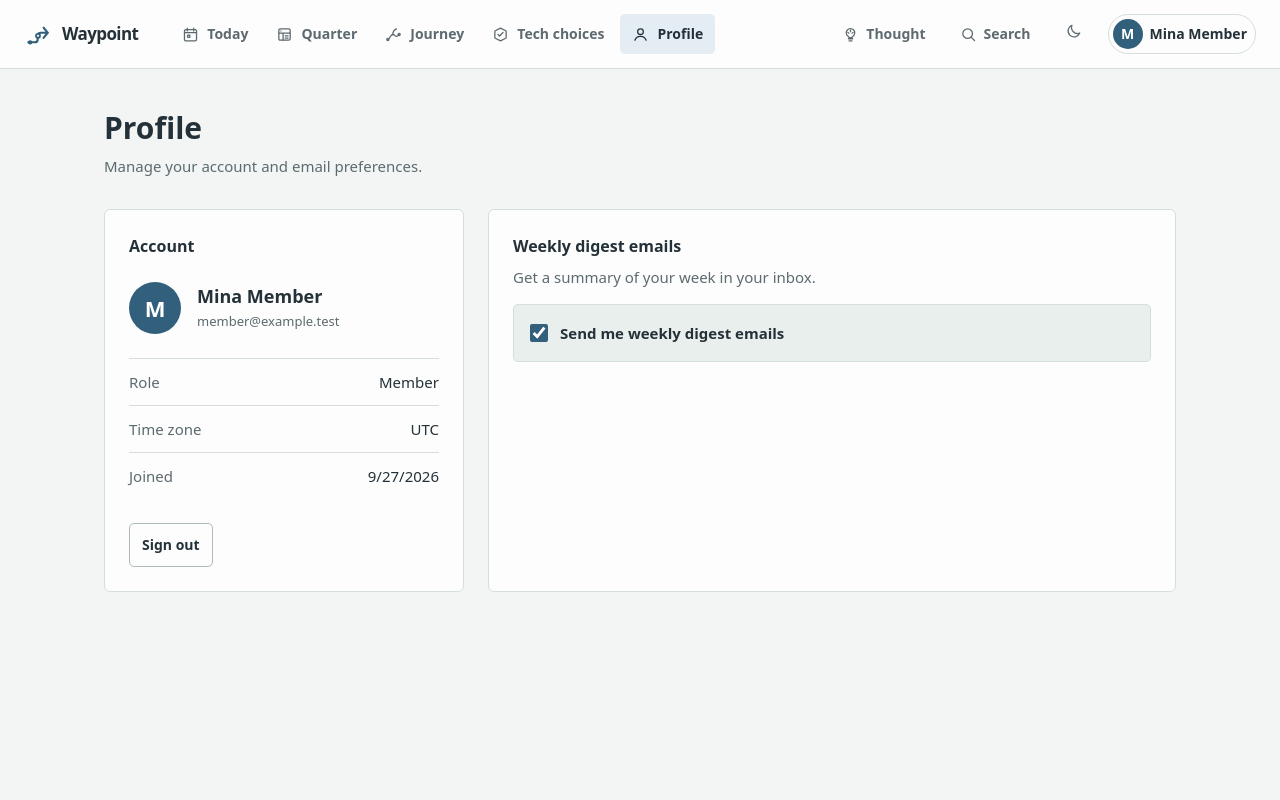
Test: owner and member authorization UI › lets any user toggle the weekly digest preference
The width and height of the screenshot is (1280, 800).
What coordinates should you click on to do the following:
click the checkbox labelled "Send me weekly digest emails"
I would click on:
 (539, 333)
Its box is [530,324,548,342].
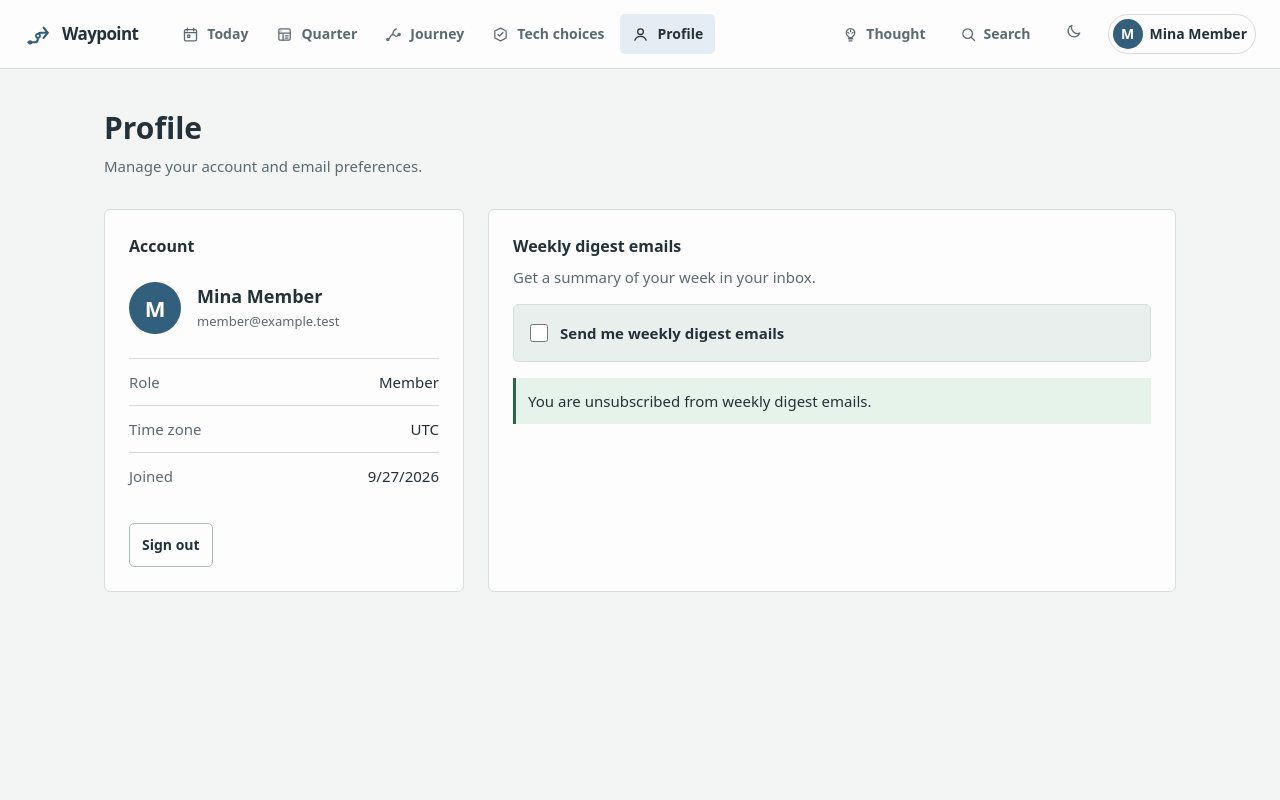
Expected: the text "You are unsubscribed from weekly digest emails." is shown, [513,378,1151,424]
What coordinates should you click on to do the following:
click the checkbox labelled "Send me weekly digest emails"
I would click on:
 (539, 333)
Its box is [530,324,548,342].
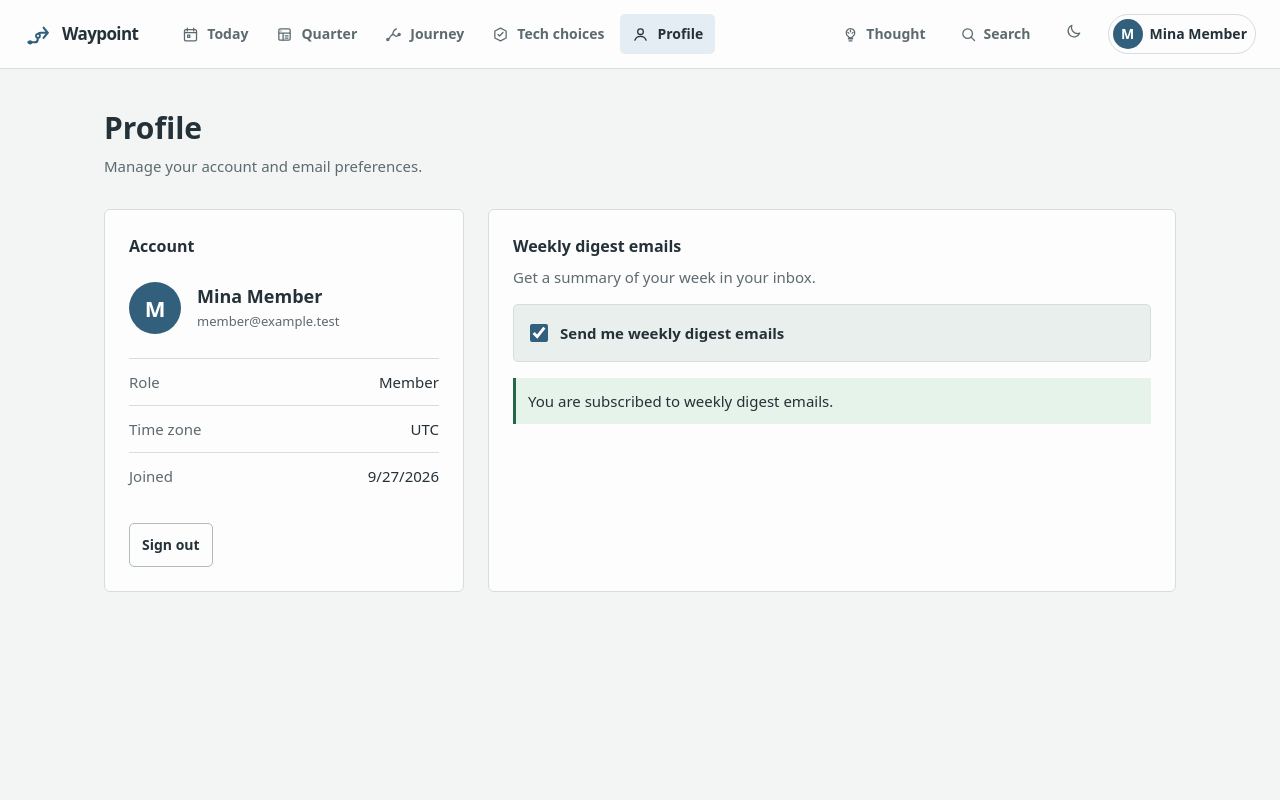
Expected: the text "You are subscribed to weekly digest emails." is shown, [513,378,1151,424]
